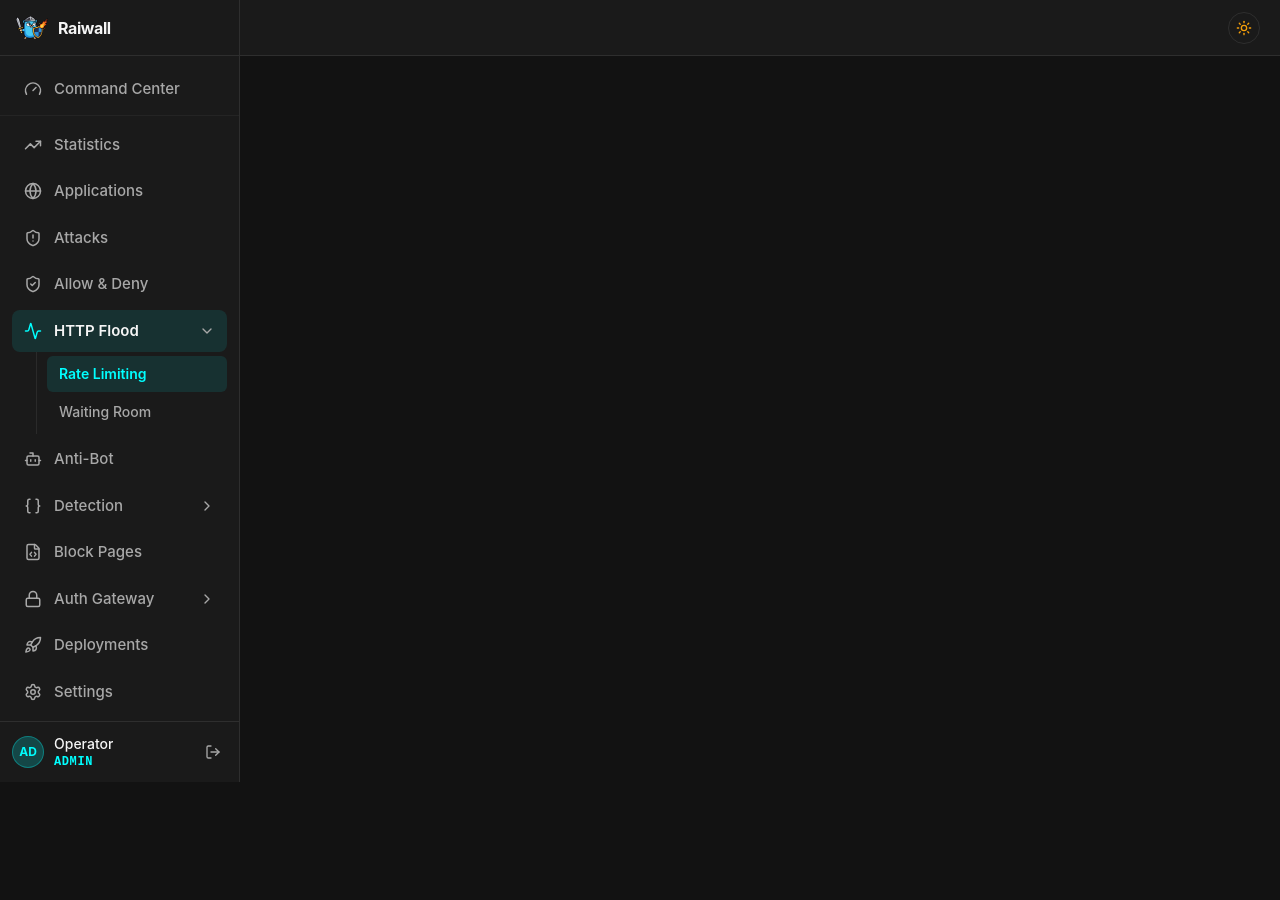
Test: SafeLine HTTP Flood Workflow › Arrow Nested Dropdown Navigation in DashboardLayout.vue and HttpFloodView.vue › renders HTTP Flood with arrow chevron and toggles nested menu in DashboardLayout
Expected: the button with test id "nav-http-flood" is shown, x1=12 y1=310 x2=191 y2=352
Expected: the button with test id "nav-http-flood-limits" is shown, x1=47 y1=356 x2=227 y2=392
// Click arrow chevron to collapse nested menu
Click the button with test id "nav-http-flood-chevron" at (207, 331), box x1=191 y1=315 x2=223 y2=347
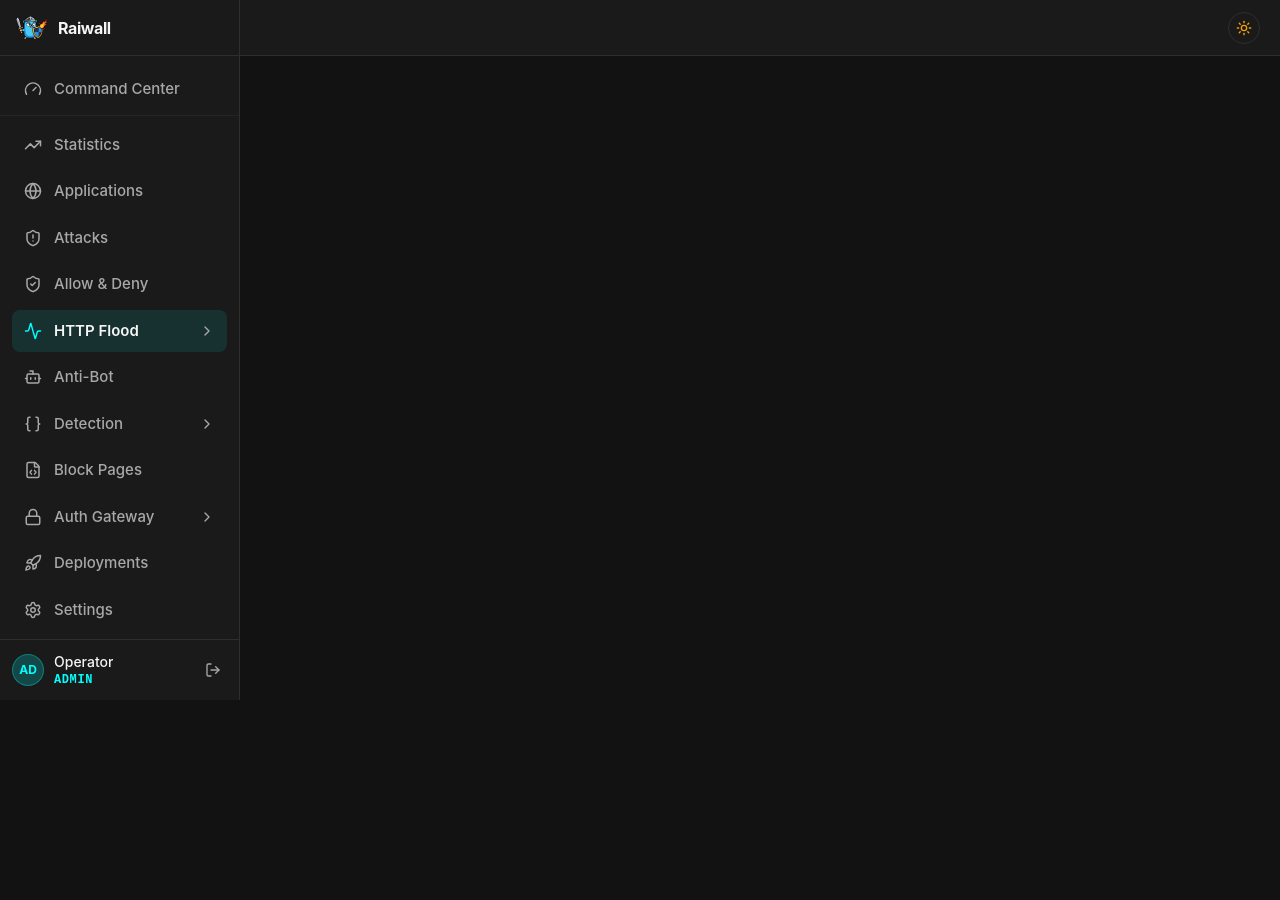
// Click arrow chevron again to drop nested menu
Click the button with test id "nav-http-flood-chevron" at (207, 331), box x1=191 y1=315 x2=223 y2=347
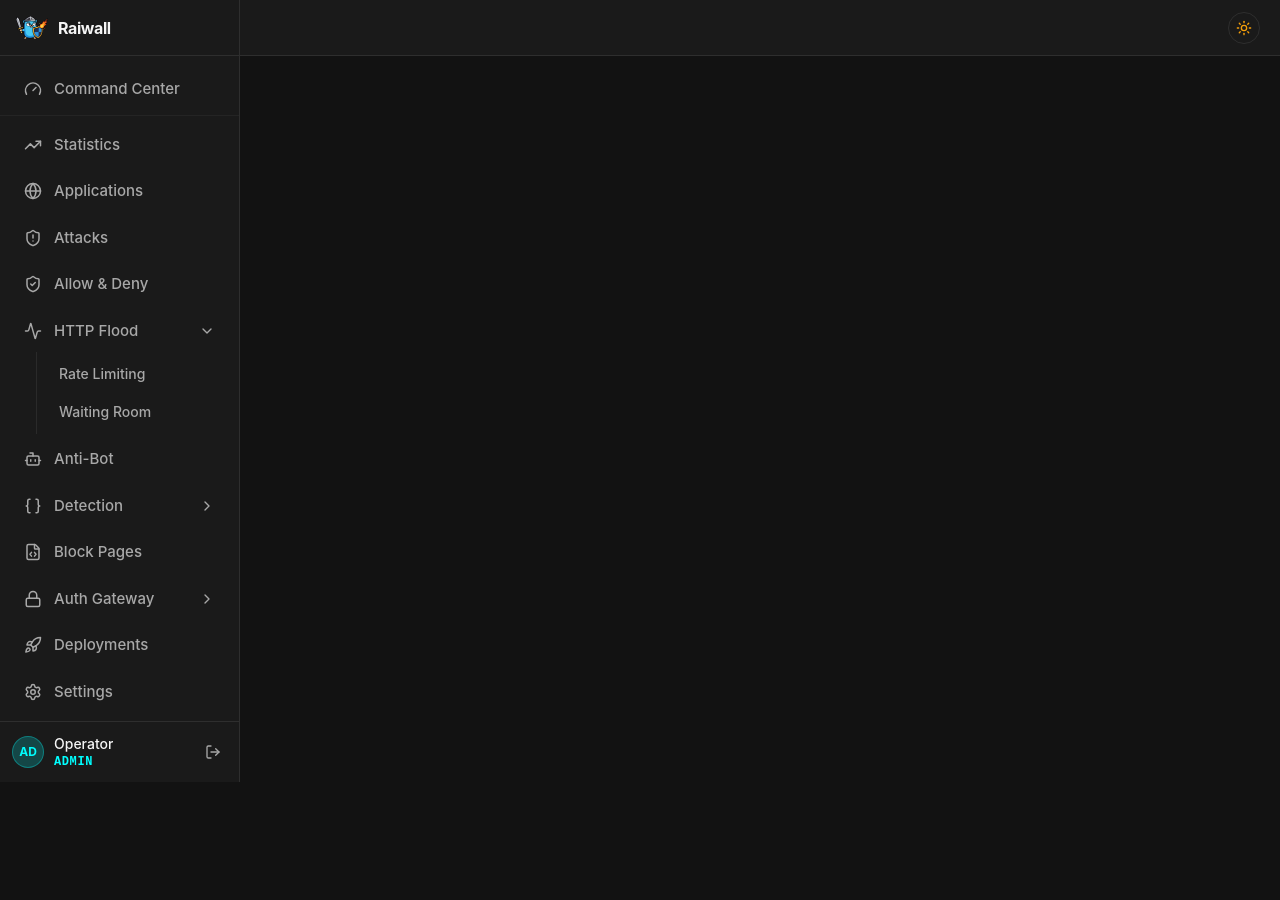
Now the button with test id "nav-http-flood-limits" is shown, box x1=47 y1=356 x2=227 y2=392
Now the button with test id "nav-http-flood-waiting-room" is shown, box x1=47 y1=394 x2=227 y2=430
